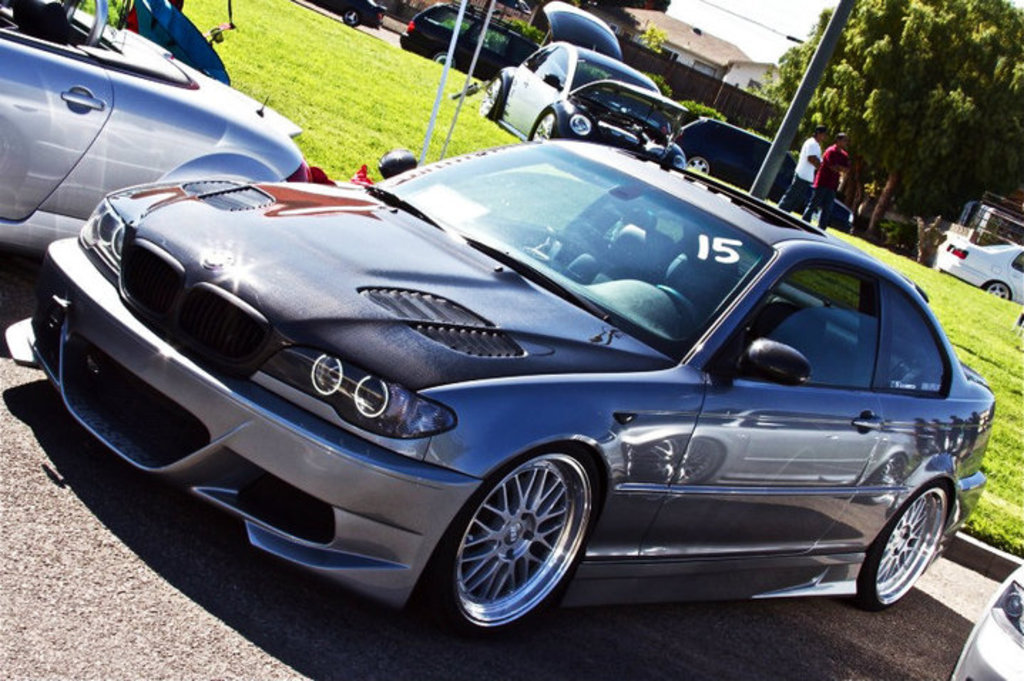Car: (44, 118, 988, 633), (0, 0, 309, 259), (484, 0, 677, 166), (676, 121, 850, 217), (395, 0, 538, 81), (947, 555, 1022, 679), (939, 237, 1022, 302), (304, 0, 385, 27)
